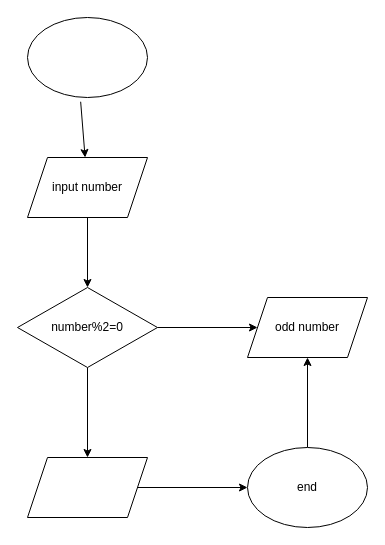
This 385x545 diagram has some shape labels left out. The shapes that lost their labels are listed below. From the top down, each one's centre as x and y in pixels, then its label:
At pixel 87 57: "start".
At pixel 87 487: "even number".
